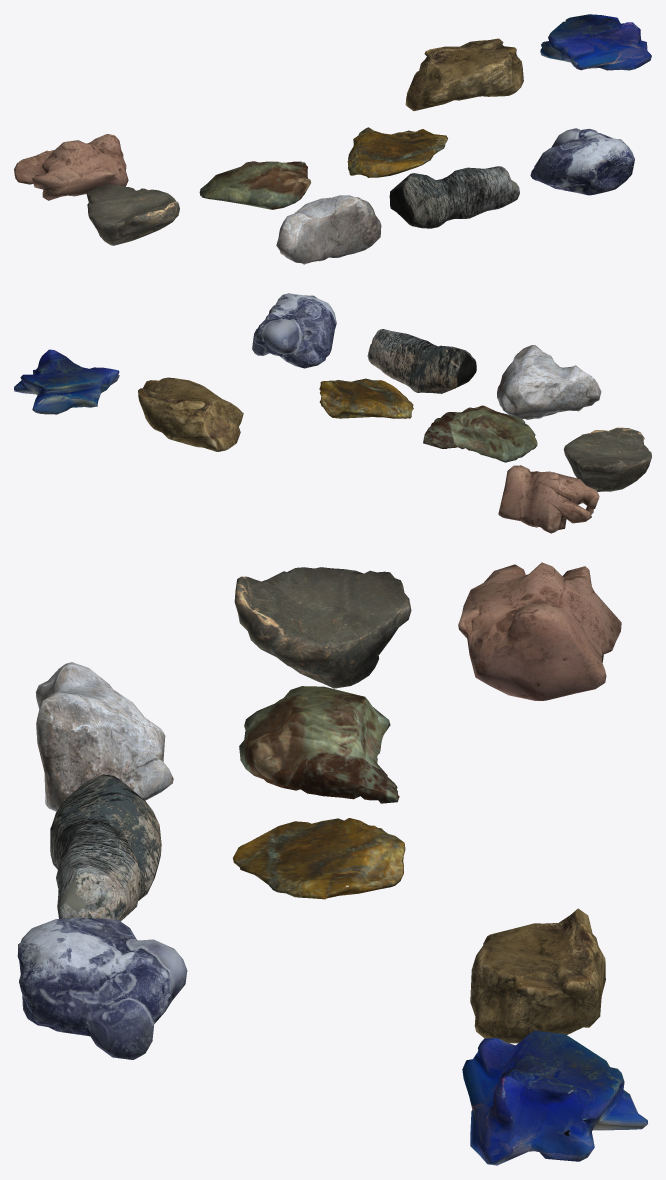
File: planet-stones.glb
The picture shows the model from 3 angles, top to bottom: view 1: azimuth 30°, elevation 25°; view 2: azimuth 150°, elevation 25°; view 3: azimuth 270°, elevation 25°; orthographic projection. The views are drawn at different scales.
Parts seen in each view (by area): view 1: rock09_rock09_0, rock18_rock18_0, rock17_rock17_0, rock19_rock19_0, rock06_rock06_0, rock10_rock10_0, rock11_rock11_0, rock12_rock12_0, rock13_rock13_0; view 2: rock09_rock09_0, rock17_rock17_0, rock06_rock06_0, rock18_rock18_0, rock19_rock19_0, rock12_rock12_0, rock11_rock11_0, rock10_rock10_0, rock13_rock13_0; view 3: rock10_rock10_0, rock19_rock19_0, rock06_rock06_0, rock11_rock11_0, rock09_rock09_0, rock12_rock12_0, rock17_rock17_0, rock18_rock18_0, rock13_rock13_0.
Boxes of the visible parts, x1,y1,x2,y2 form: rock09_rock09_0: (405, 38, 523, 110); rock18_rock18_0: (389, 166, 519, 228); rock17_rock17_0: (276, 195, 381, 264); rock19_rock19_0: (530, 128, 634, 195); rock06_rock06_0: (14, 134, 128, 200); rock10_rock10_0: (540, 14, 651, 70); rock11_rock11_0: (86, 184, 179, 245); rock12_rock12_0: (199, 161, 311, 209); rock13_rock13_0: (347, 127, 447, 177); rock09_rock09_0: (138, 377, 243, 451); rock17_rock17_0: (497, 345, 601, 419); rock06_rock06_0: (498, 465, 599, 533); rock18_rock18_0: (367, 329, 476, 393); rock19_rock19_0: (252, 293, 336, 368); rock12_rock12_0: (423, 405, 537, 462); rock11_rock11_0: (563, 427, 651, 491); rock10_rock10_0: (14, 349, 119, 414); rock13_rock13_0: (319, 378, 413, 418); rock10_rock10_0: (462, 1030, 647, 1165); rock19_rock19_0: (17, 917, 187, 1059); rock06_rock06_0: (458, 562, 621, 700); rock11_rock11_0: (234, 567, 411, 688); rock09_rock09_0: (470, 908, 605, 1043); rock12_rock12_0: (239, 686, 399, 803); rock17_rock17_0: (35, 662, 173, 811); rock18_rock18_0: (50, 774, 161, 921); rock13_rock13_0: (233, 818, 405, 899).
Size of the model in its own units: 151 by 14.76 by 71.95.
Materials: 9 (9 with a texture image).
